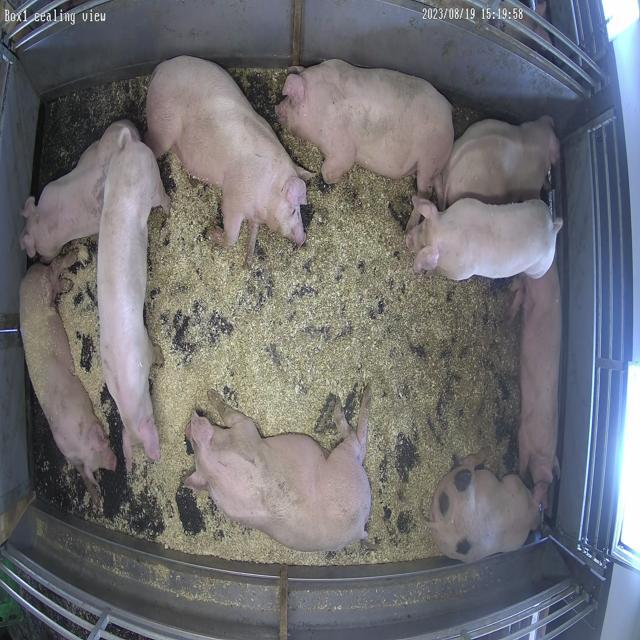Dirt: (409, 281, 521, 468)
Pig: (146, 55, 310, 258), (185, 390, 372, 553), (96, 139, 169, 466), (276, 59, 455, 192), (19, 263, 116, 502), (20, 120, 143, 260), (407, 196, 563, 280), (513, 265, 563, 505), (431, 457, 541, 564), (444, 115, 561, 204)
